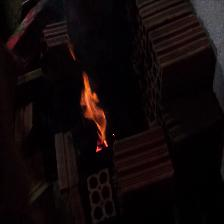fire: (63, 67, 130, 169)
